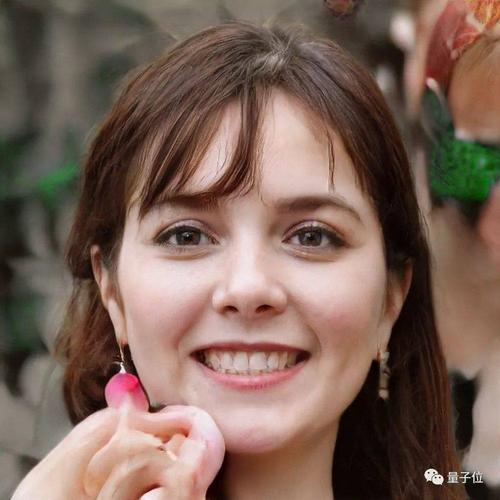nomask: (116, 52, 390, 431)
